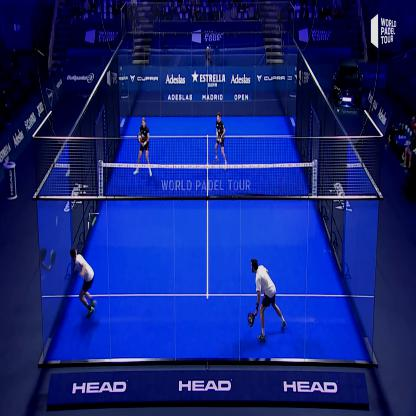ball: (89, 213, 100, 230)
